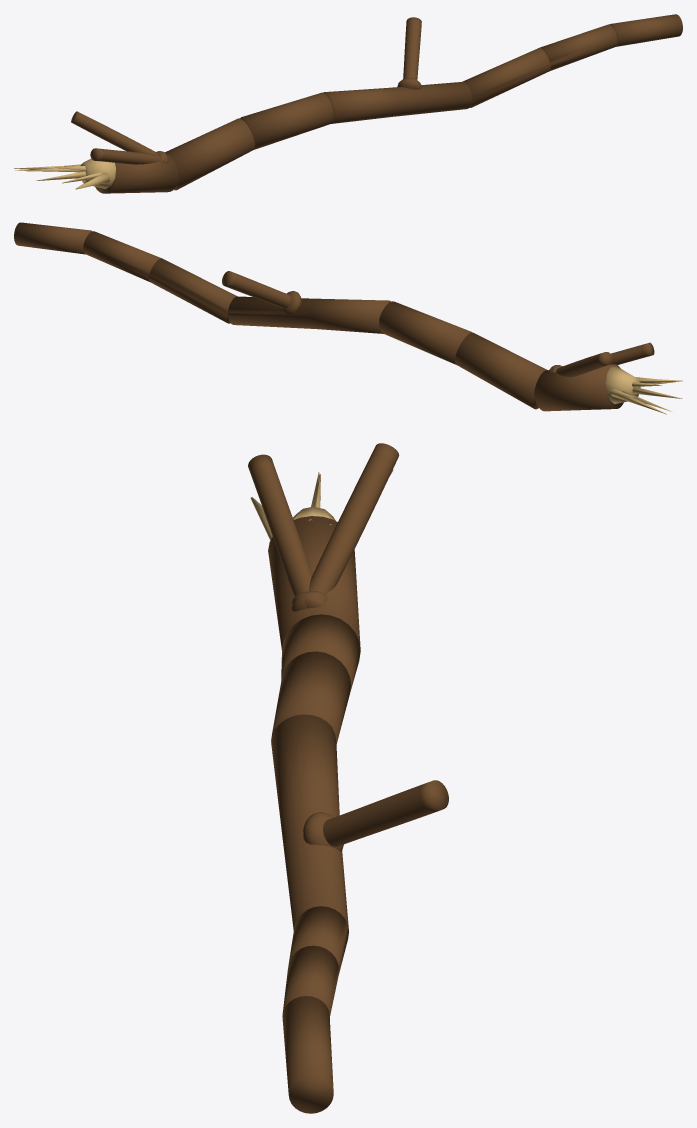
3 renders of one model, top to bottom at view 1: azimuth 30°, elevation 25°; view 2: azimuth 150°, elevation 25°; view 3: azimuth 270°, elevation 25°, orthographic. The views are drawn at different scales.
Visible parts, largest first — view 1: Shaft, FrayedTip, ForkA, Branch1, ForkB; view 2: Shaft, FrayedTip, Branch1, ForkA, ForkB; view 3: Shaft, ForkA, Branch1, ForkB.
Part boxes in pixels (x1,y1,x2,y2): Shaft: (95,14,682,193); FrayedTip: (14,158,115,189); ForkA: (71,111,165,163); Branch1: (397,17,421,89); ForkB: (90,148,168,164); Shaft: (14,222,623,411); FrayedTip: (602,365,682,414); Branch1: (222,271,301,314); ForkA: (549,352,612,376); ForkB: (551,342,654,372); Shaft: (268,516,360,1113); ForkA: (292,443,399,608); Branch1: (303,780,448,851); ForkB: (248,454,327,611).
Bounding box in the file's own units: 0.5863 × 0.0743 × 0.079.
